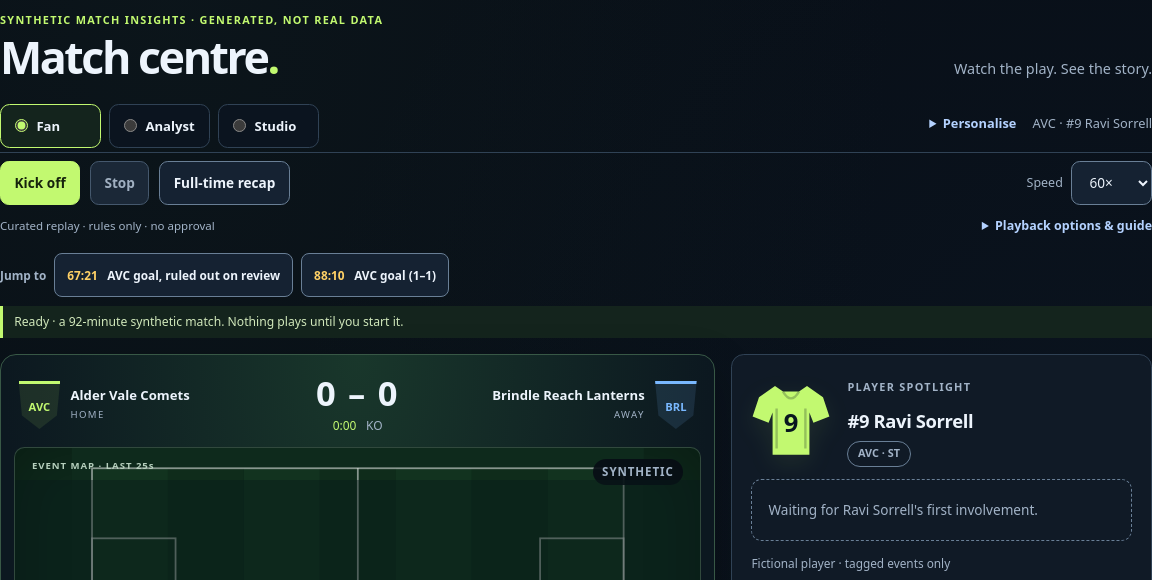
it: starting an operator-gated run › uses the chosen gated speed, and reads the decision window from the session rather than assuming 20 s
Expected: the element with test id "scorebug" is shown, [14, 368, 702, 447]
Click the heading "Personalise AVC · #9 Ravi Sorrell". click: (1047, 123)
box: [943, 114, 1151, 132]
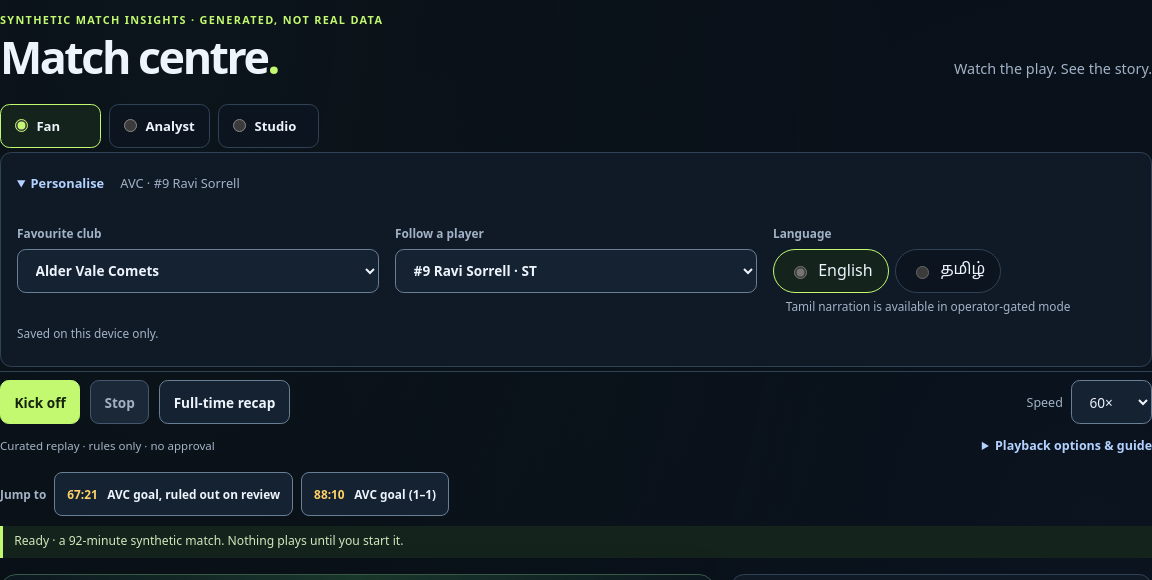
Click the heading "Playback options & guide". click: (1074, 445)
box: [995, 436, 1151, 454]
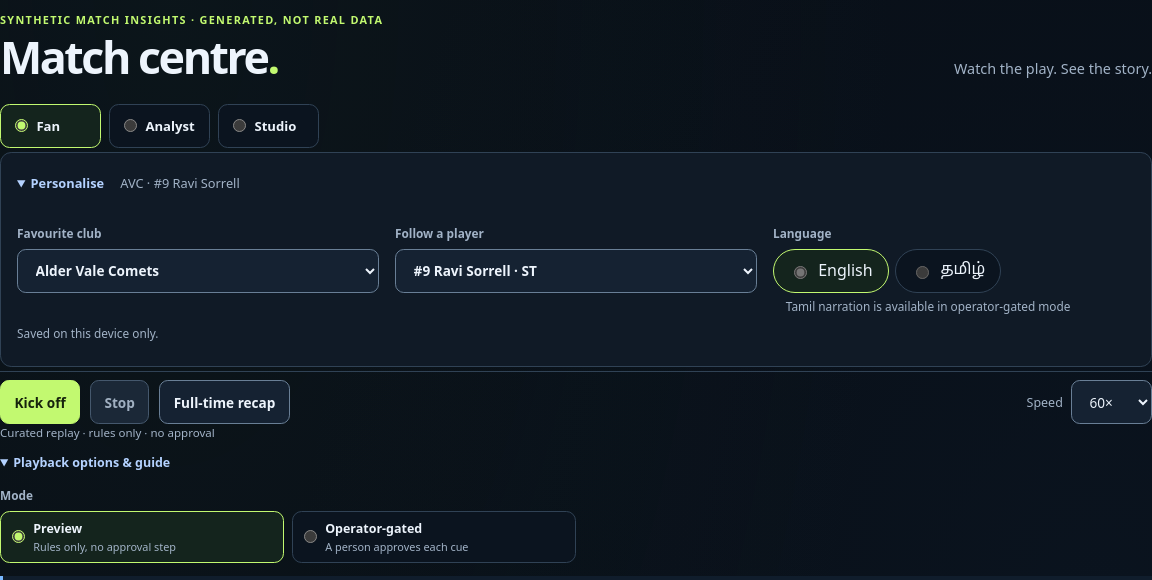
Click the radio button labelled "Operator-gated A person approves each cue". click: (311, 537)
box: [304, 530, 317, 543]
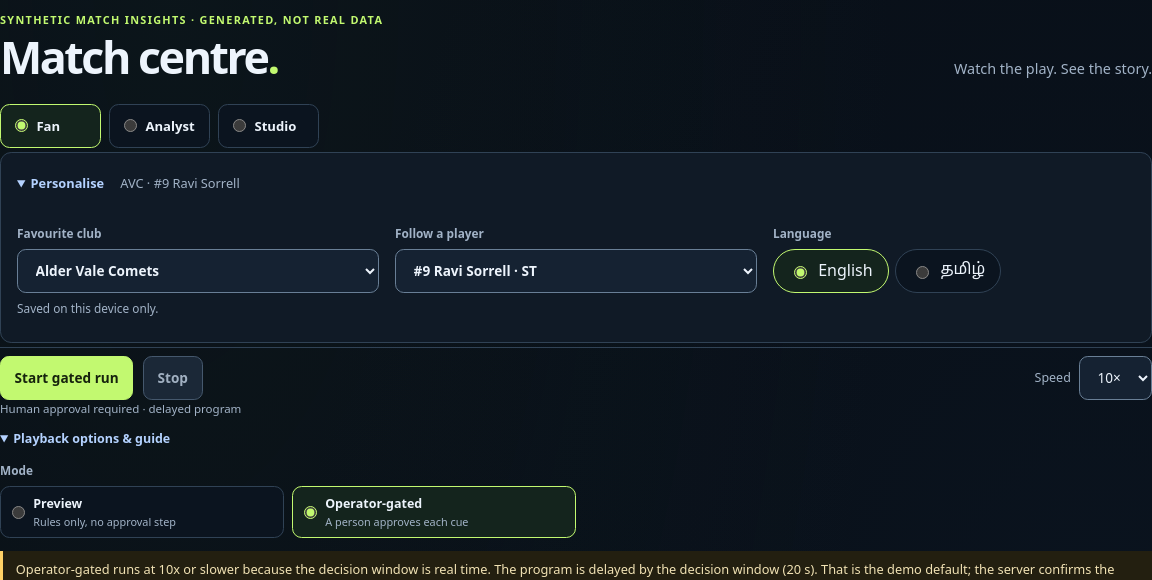
Select "2×" in the dropdown labelled "Speed". click: (1115, 378)
box: [1079, 356, 1151, 400]
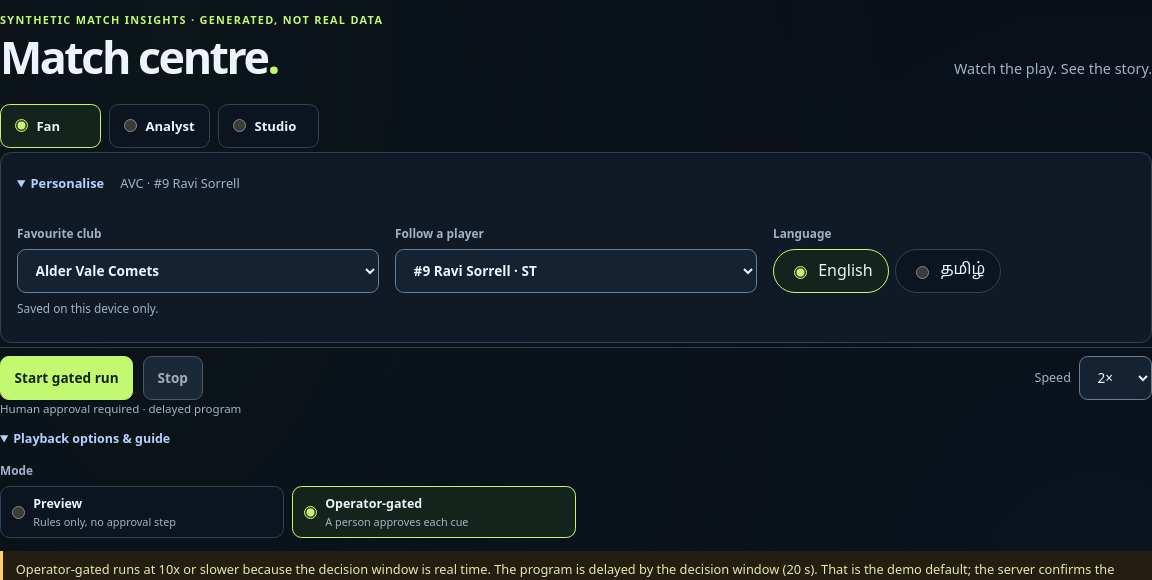
Click the button "Start gated run". click: (67, 378)
box: [0, 356, 133, 400]
Wait 60 ms
(page scrolled)
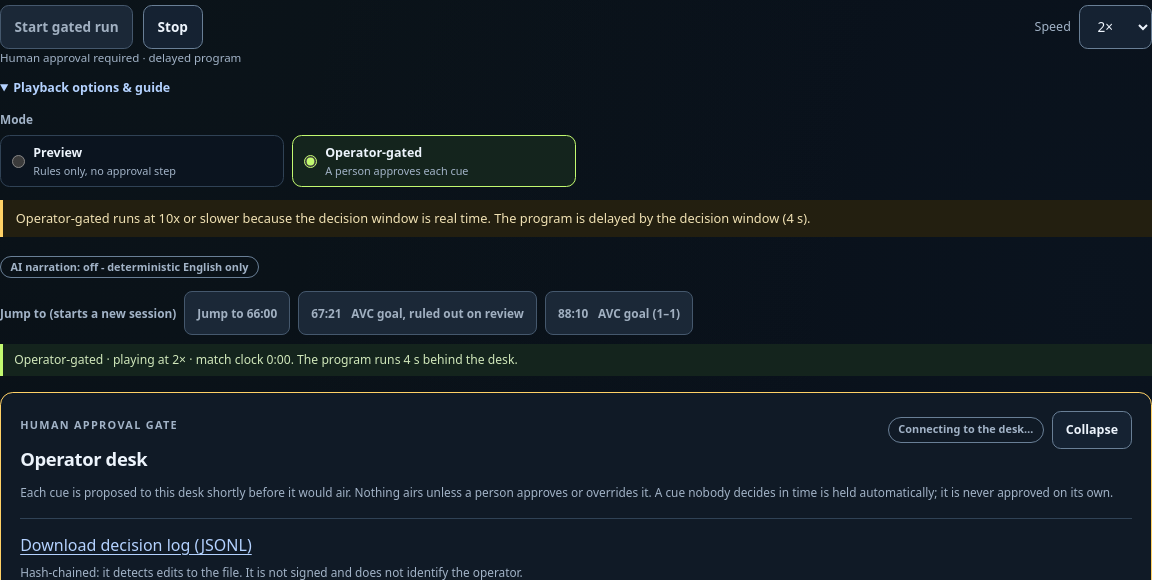
Expected: the text with test id "mode-note" shows "The program is delayed by the decision window (4 s).", [16, 209, 810, 227]
Expected: the message with test id "match-status" shows "Operator-gated · playing at 2× · match clock 0:00. The program runs 4 s behind the desk.", [14, 351, 518, 368]
